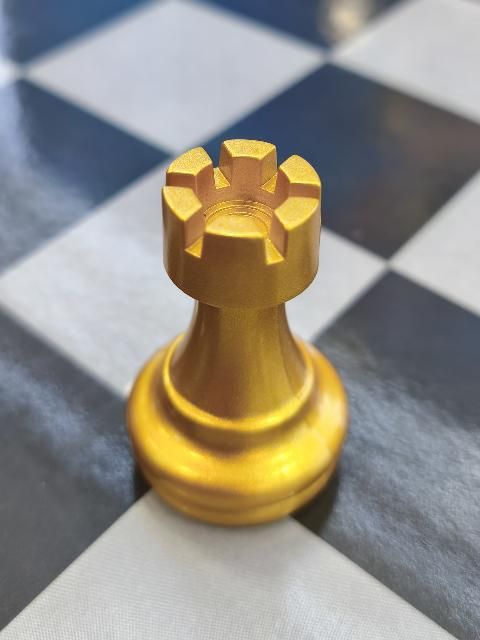black_rook: (123, 134, 355, 530)
